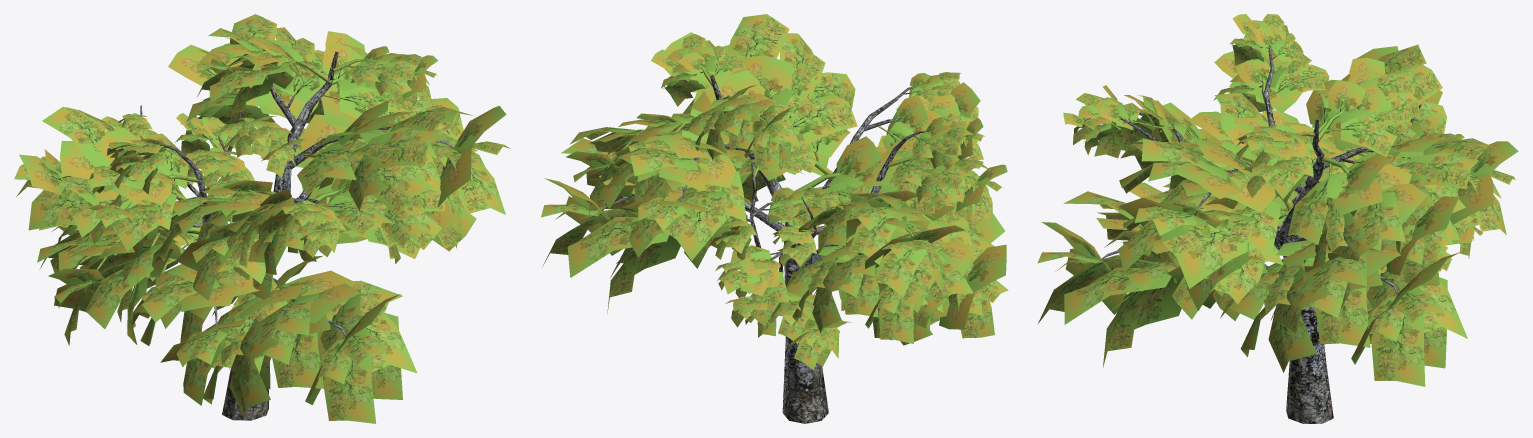
File: oak_tree.fbx
3 renders of one model, left to right at view 1: azimuth 30°, elevation 25°; view 2: azimuth 150°, elevation 25°; view 3: azimuth 270°, elevation 25°, orthographic. The views are drawn at different scales.
Visible parts, largest first — view 1: tree_oak_joined; view 2: tree_oak_joined; view 3: tree_oak_joined.
Part boxes in pixels (<box>): tree_oak_joined: <box>14,14,510,423</box>; tree_oak_joined: <box>541,14,1008,423</box>; tree_oak_joined: <box>1037,14,1518,423</box>.
Size of the model in its own units: 285 by 218 by 268.
2 materials, 2 textured.
